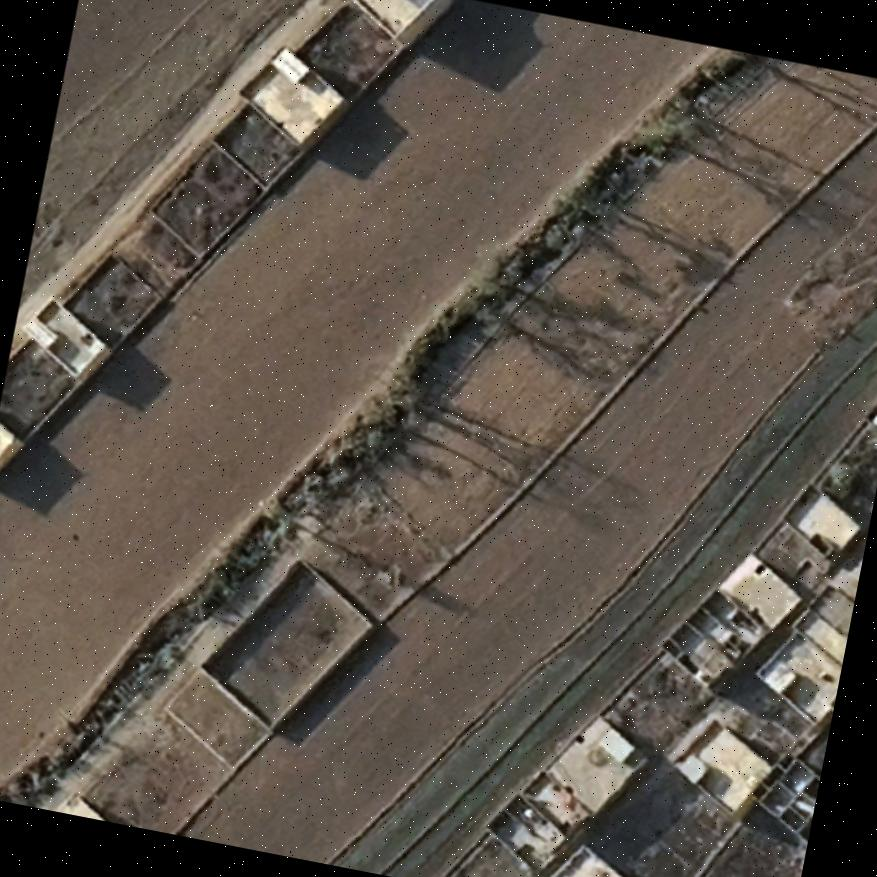Solarpanel: (19, 311, 60, 350)
